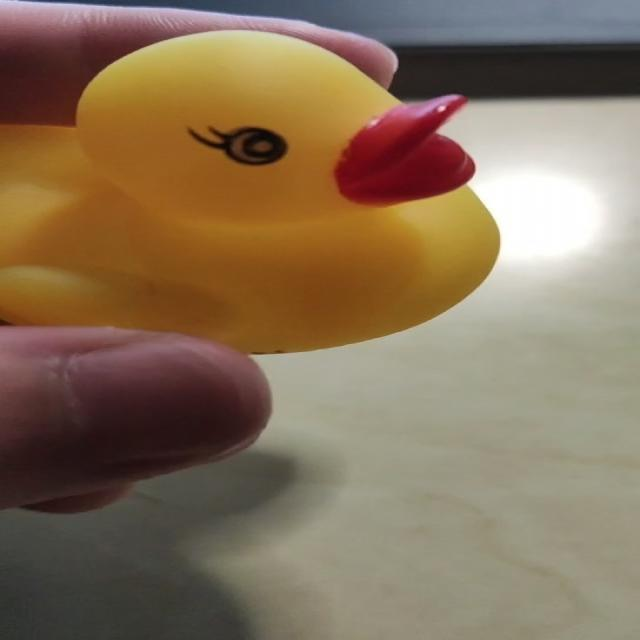rubber-duck: (0, 30, 497, 351), (0, 2, 156, 109)
